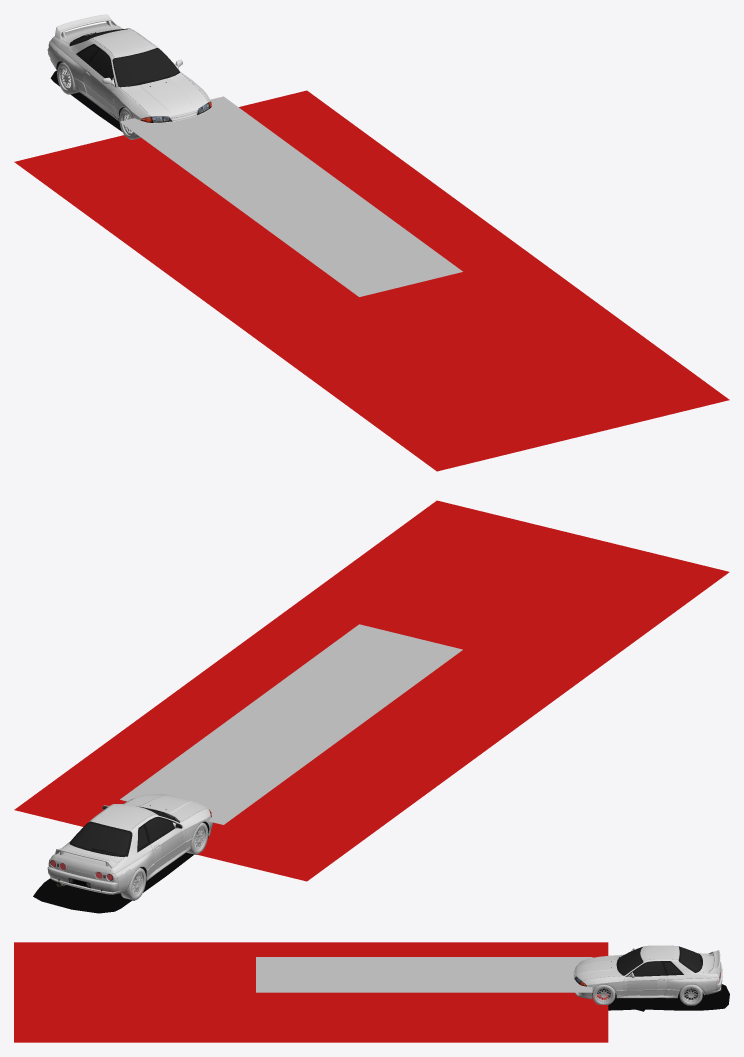
File: car10.fbx
3 views of the same model, one above another, from view 1: azimuth 30°, elevation 25°; view 2: azimuth 150°, elevation 25°; view 3: azimuth 270°, elevation 25° (orthographic). The views are drawn at different scales.
Visible parts, largest first — view 1: light_ground, far_lights, skyline_r32; view 2: light_ground, far_lights, skyline_r32, shadow_car; view 3: light_ground, far_lights, skyline_r32, shadow_car, decalSide, wheel_RL, wheel_FL.
Part boxes in pixels (<box>): light_ground: <box>14,90,729,471</box>; far_lights: <box>120,96,462,296</box>; skyline_r32: <box>47,14,211,137</box>; light_ground: <box>14,500,729,881</box>; far_lights: <box>120,624,462,824</box>; skyline_r32: <box>47,794,213,894</box>; shadow_car: <box>33,852,194,913</box>; light_ground: <box>14,942,608,1042</box>; far_lights: <box>256,957,592,992</box>; skyline_r32: <box>573,945,722,999</box>; shadow_car: <box>608,984,729,1011</box>; decalSide: <box>627,979,656,994</box>; wheel_RL: <box>679,984,702,1005</box>; wheel_FL: <box>592,984,615,1004</box>.
Size of the model in its own units: 49.65 by 9.65 by 150.
